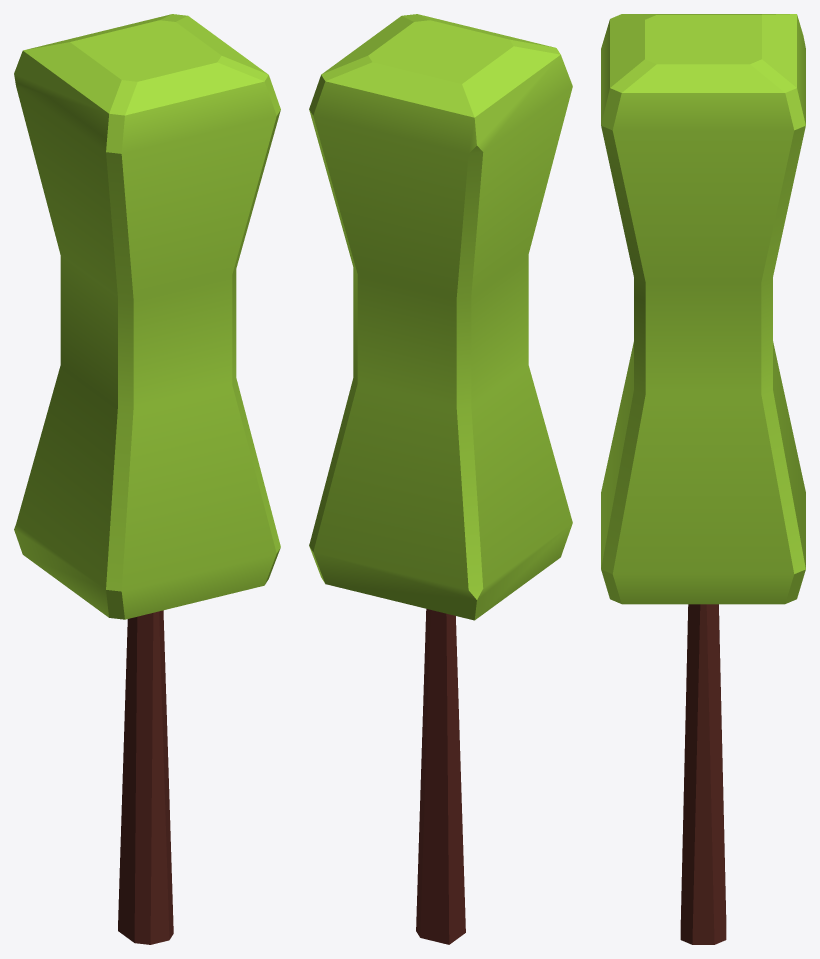
File: tree4.fbx
The picture shows the model from 3 angles, left to right: view 1: azimuth 30°, elevation 25°; view 2: azimuth 150°, elevation 25°; view 3: azimuth 270°, elevation 25°; orthographic projection.
Parts seen in each view (by area): view 1: Cube.006; view 2: Cube.006; view 3: Cube.006.
Boxes of the visible parts, box(x1,y1,x2,y2) form: Cube.006: box(14, 14, 280, 944); Cube.006: box(309, 14, 572, 944); Cube.006: box(601, 14, 805, 944).
Bounding box in the file's own units: 140 × 677 × 140.
